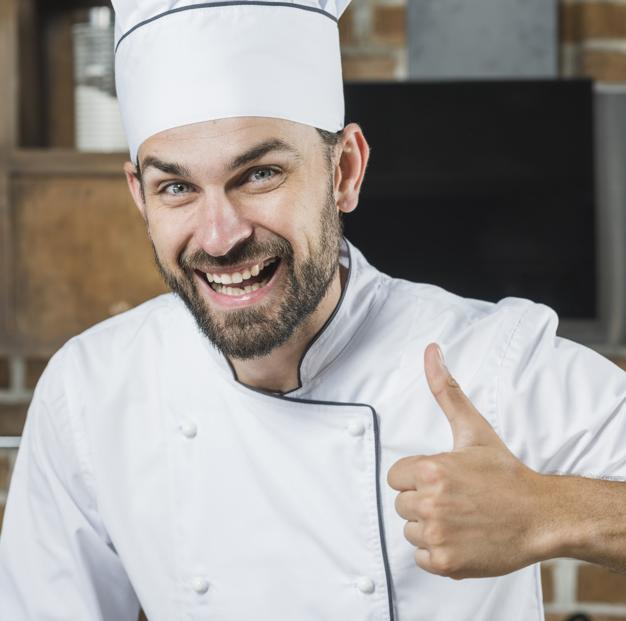thumbsup: (386, 342, 502, 578)
